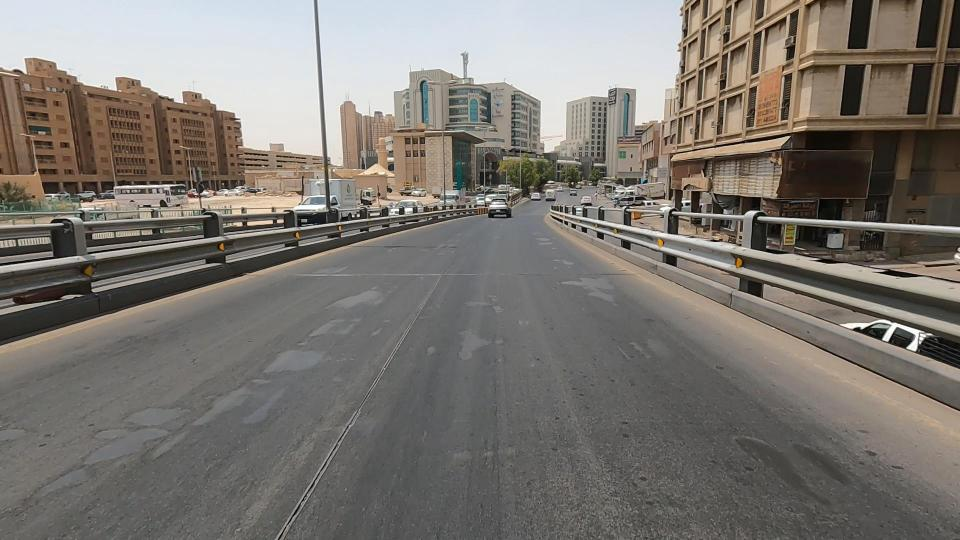BAD_BILLBOARD: (722, 101, 921, 230), (663, 114, 819, 218), (732, 50, 806, 145)
